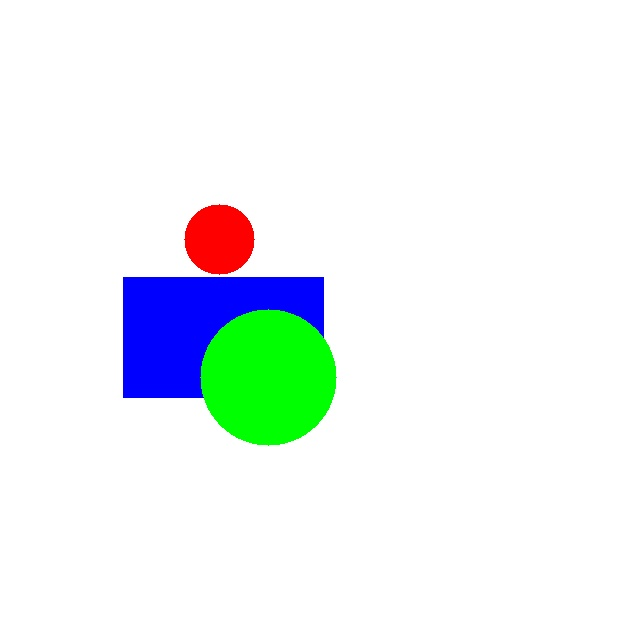cartao: (123, 277, 323, 397)
rosca_externa: (200, 309, 336, 445)
rosca_interna: (184, 204, 254, 274)
